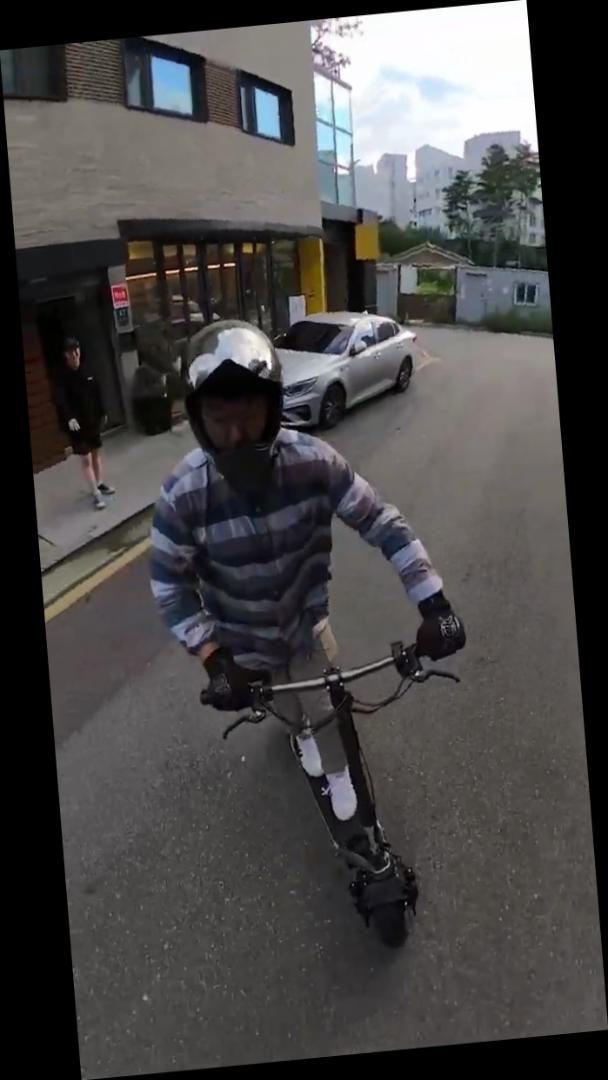helmet: (125, 297, 492, 974)
